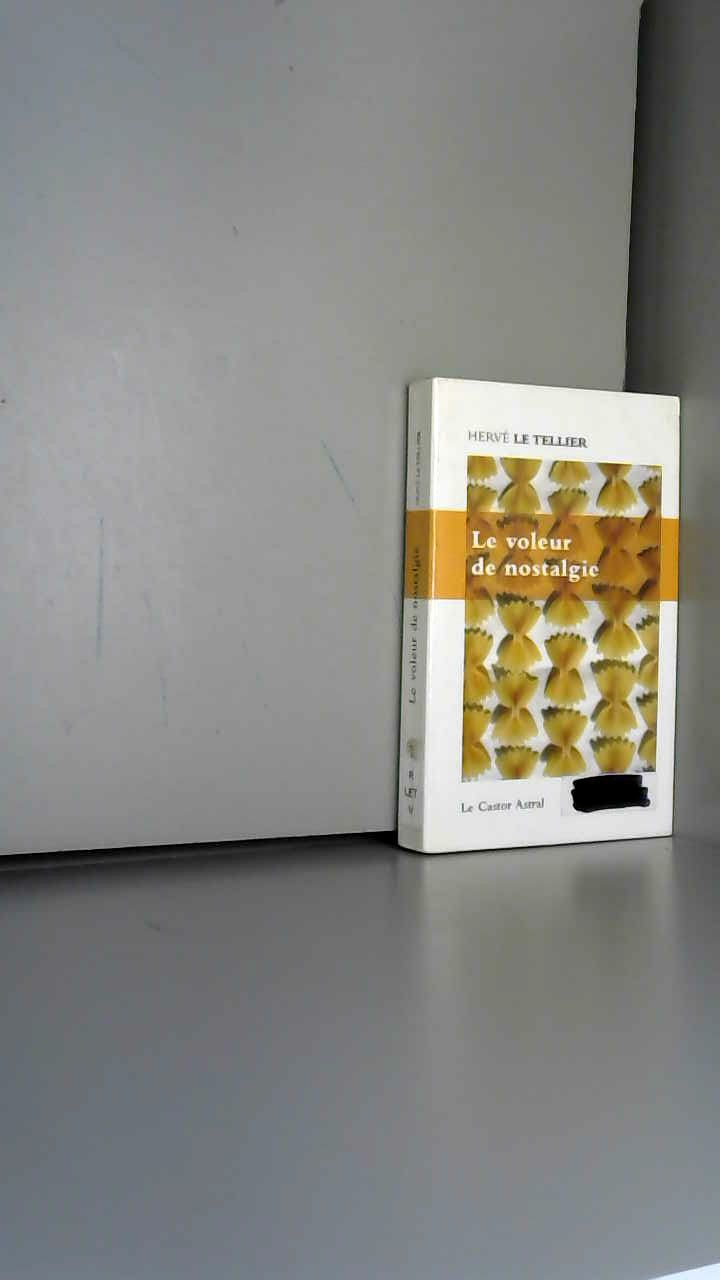book: (380, 350, 720, 899)
